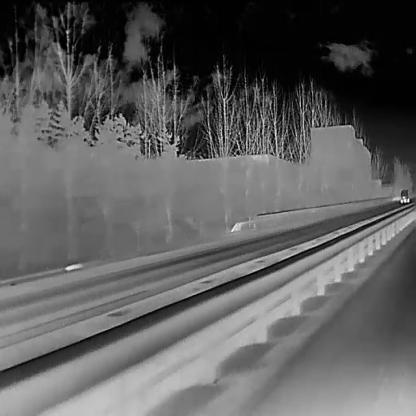car: (398, 188, 410, 203)
